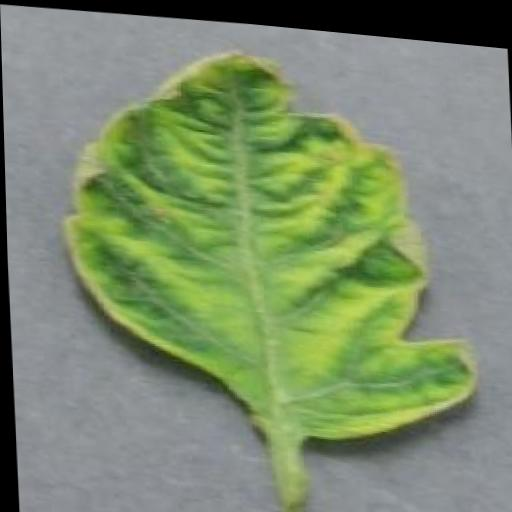Yellow Leaf Curl Virus: (50, 27, 474, 451)
